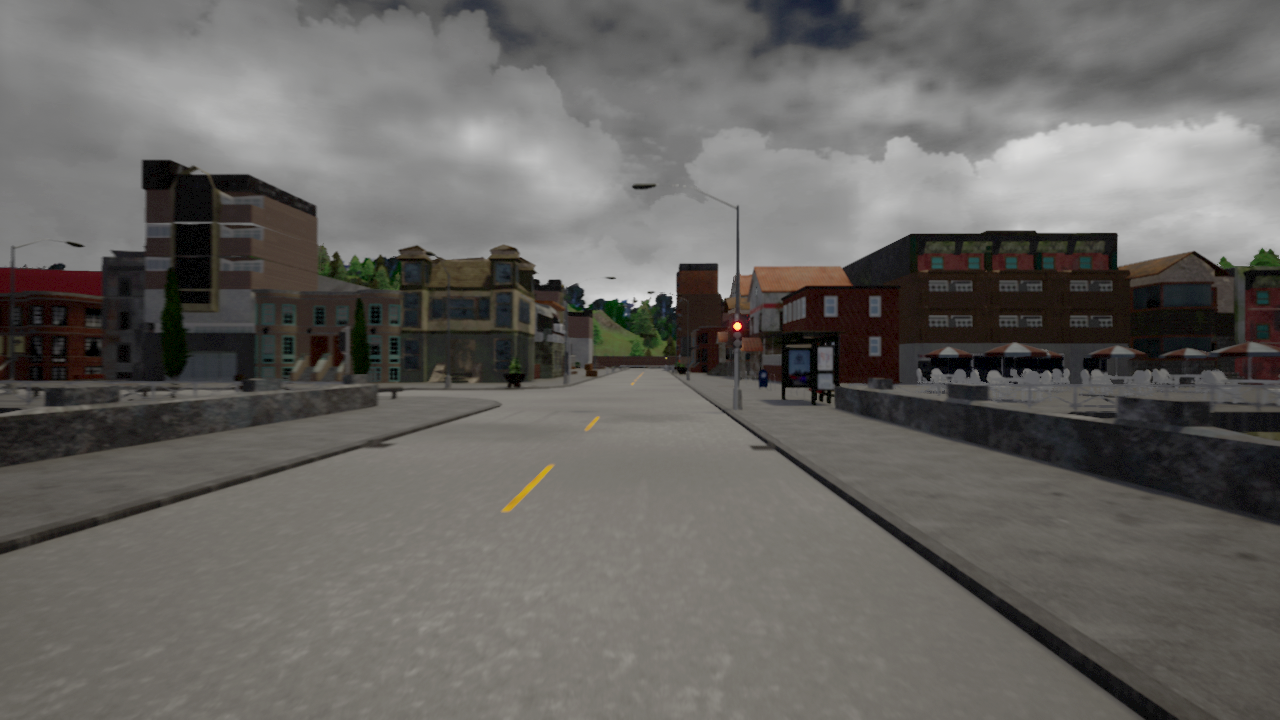red: (731, 318, 744, 352)
